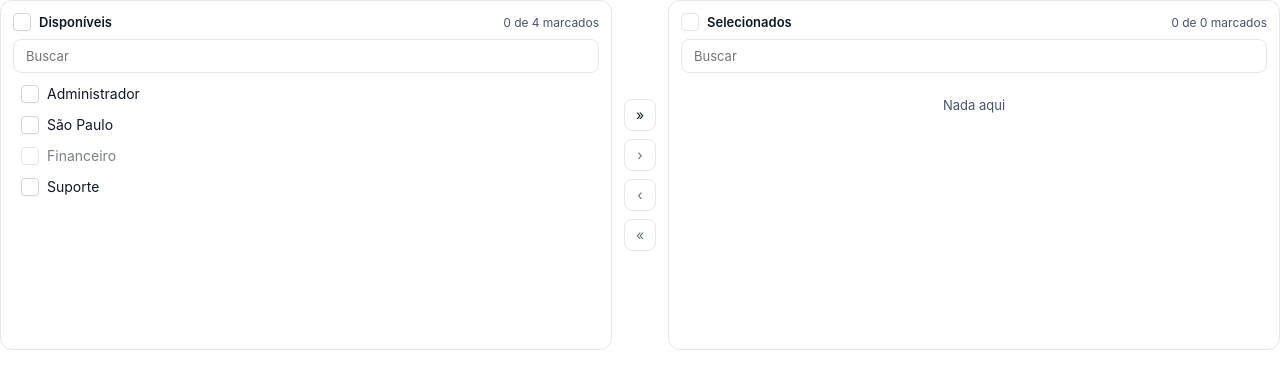
Test: Transfer › filters a pane without accents
The image size is (1280, 367).
In the search field with placeholder "Buscar" below "Disponíveis": (306, 56) x1=13 y1=39 x2=599 y2=73, type "sao"
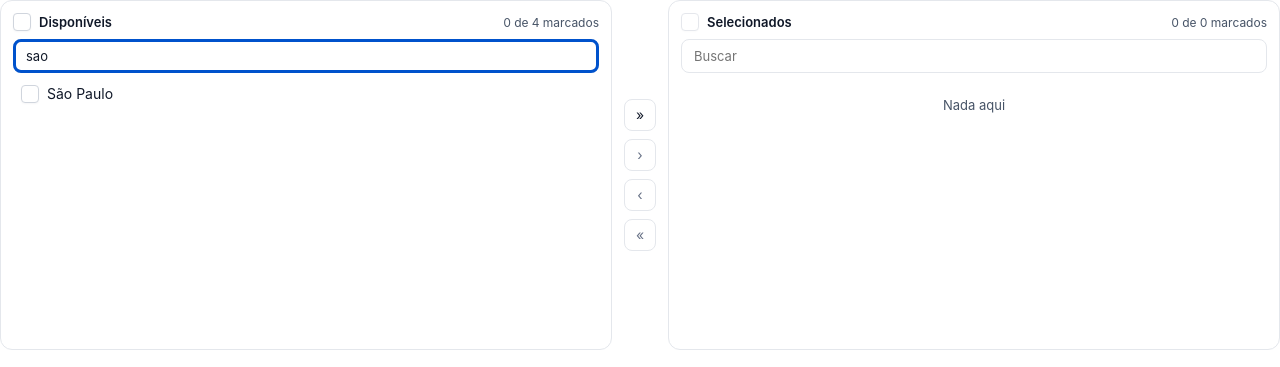
Expected: the 3rd checkbox labelled "São Paulo" is shown, x1=21 y1=85 x2=113 y2=104
Now the text "Administrador" is gone
